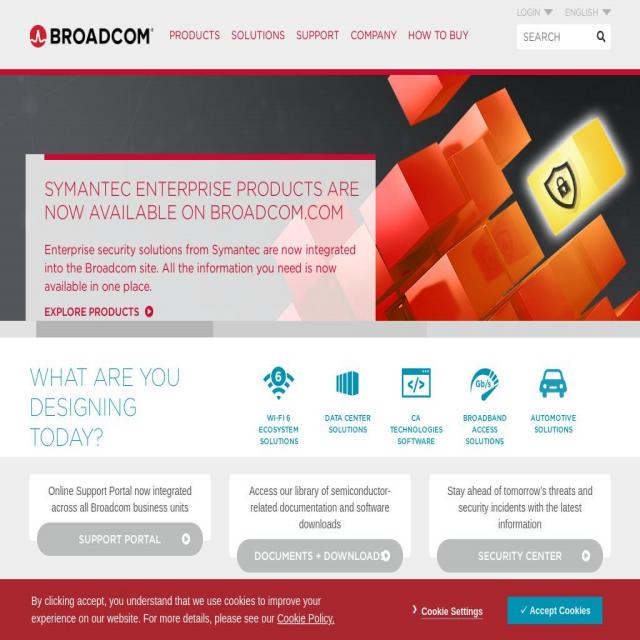language: (562, 2, 616, 20)
login-option: (511, 5, 551, 22)
navigation-blocks: (21, 466, 612, 586)
navigation-links: (251, 350, 601, 463), (165, 25, 473, 48)
search: (514, 23, 614, 52)
